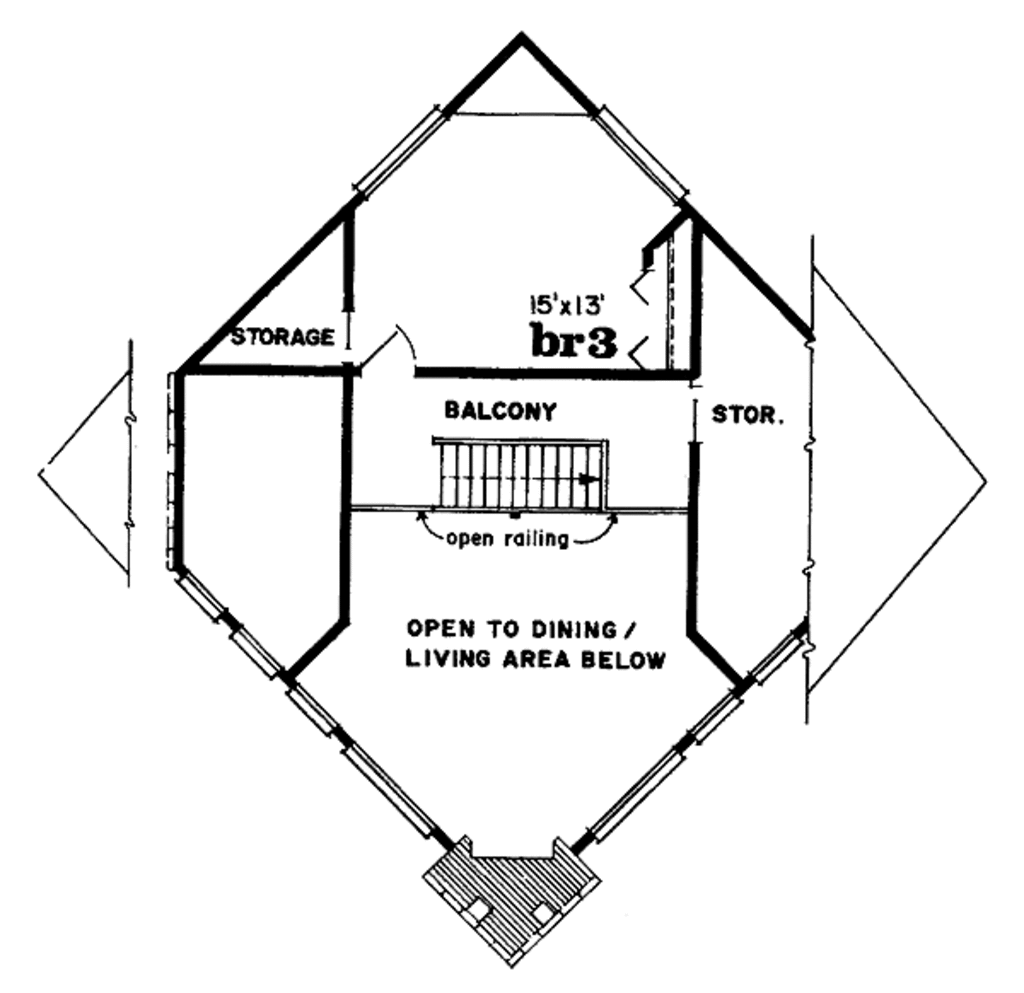door: (360, 311, 428, 392)
stairs: (405, 399, 646, 542)
window: (585, 720, 694, 850), (344, 96, 452, 199), (593, 103, 693, 211), (344, 739, 441, 847), (747, 624, 819, 689), (691, 682, 752, 750), (282, 685, 344, 747), (176, 567, 231, 636), (232, 620, 279, 679)
